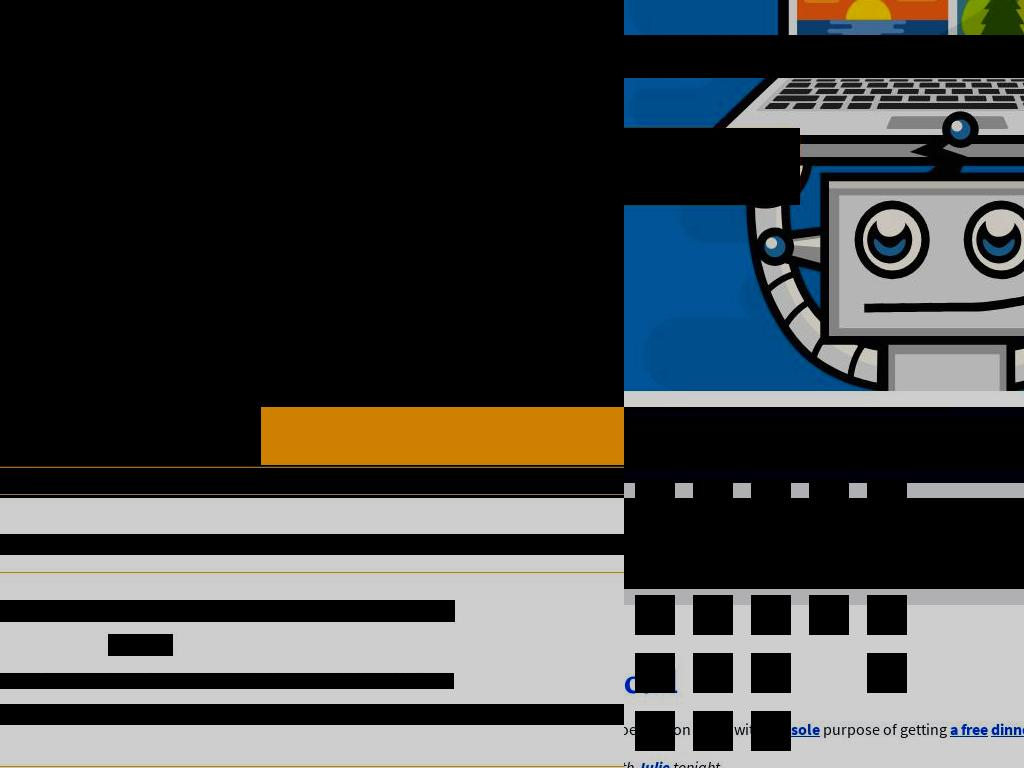button: (0, 140, 336, 407), (336, 140, 624, 407), (624, 128, 800, 205), (300, 473, 421, 488), (231, 386, 316, 407), (635, 421, 675, 461), (693, 421, 733, 461), (751, 421, 791, 461), (809, 421, 849, 461), (867, 421, 907, 461), (635, 479, 675, 519), (693, 479, 733, 519), (751, 479, 791, 519), (809, 479, 849, 519), (867, 479, 907, 519), (635, 537, 675, 577), (693, 537, 733, 577), (751, 537, 791, 577), (809, 537, 849, 577), (867, 537, 907, 577), (635, 595, 675, 635), (693, 595, 733, 635), (751, 595, 791, 635), (809, 595, 849, 635), (867, 595, 907, 635), (635, 653, 675, 693), (693, 653, 733, 693), (751, 653, 791, 693), (809, 653, 849, 693), (867, 653, 907, 693), (635, 711, 675, 751), (693, 711, 733, 751), (751, 711, 791, 751), (46, 473, 144, 488), (158, 473, 219, 488), (232, 473, 287, 488), (232, 390, 280, 407), (0, 473, 30, 488)
field: (624, 419, 1024, 469), (0, 600, 455, 622), (108, 634, 173, 656)
heading: (0, 0, 336, 140), (336, 0, 624, 105), (0, 534, 624, 555)
image: (0, 140, 336, 407), (336, 140, 624, 407), (624, 498, 1024, 589), (0, 495, 624, 498)
link: (624, 660, 678, 702), (950, 718, 988, 739), (991, 718, 1024, 739), (791, 718, 820, 739), (637, 756, 670, 768)
text: (624, 35, 1024, 78), (0, 704, 624, 725), (0, 673, 454, 689), (624, 718, 791, 739), (820, 718, 950, 739), (670, 756, 724, 768), (28, 473, 47, 488), (144, 473, 159, 488), (218, 473, 233, 488), (286, 473, 301, 488)
